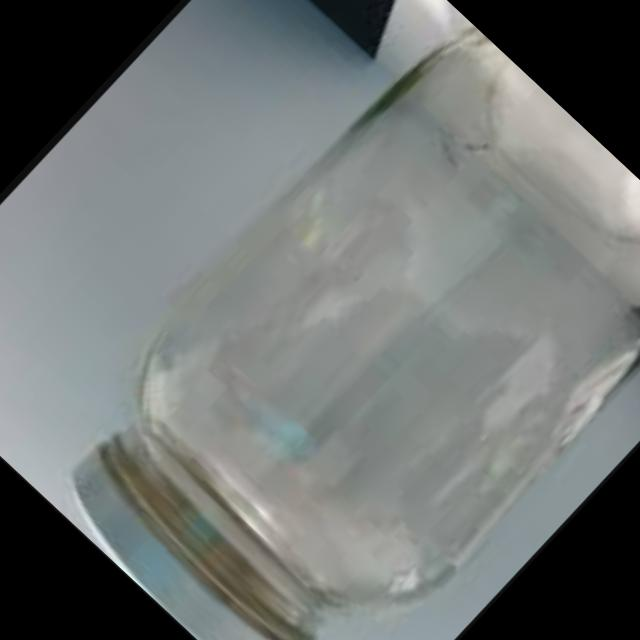ToplesKaca: (13, 4, 640, 640)
